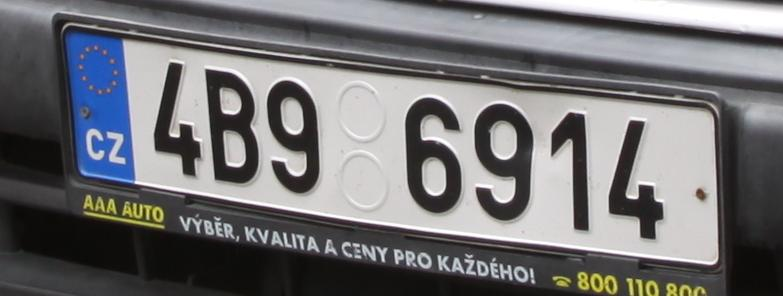1: (552, 111, 589, 230)
4: (609, 119, 664, 240), (152, 62, 201, 172)
6: (407, 99, 462, 218)
9: (474, 103, 532, 221), (267, 80, 320, 195)
B: (206, 66, 257, 184)
